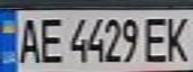2: (103, 15, 124, 64)
4: (66, 13, 90, 64), (84, 15, 106, 63)
9: (121, 15, 142, 64)
A: (12, 14, 42, 65)
E: (142, 13, 172, 64), (36, 14, 66, 65)
K: (160, 12, 193, 64)
